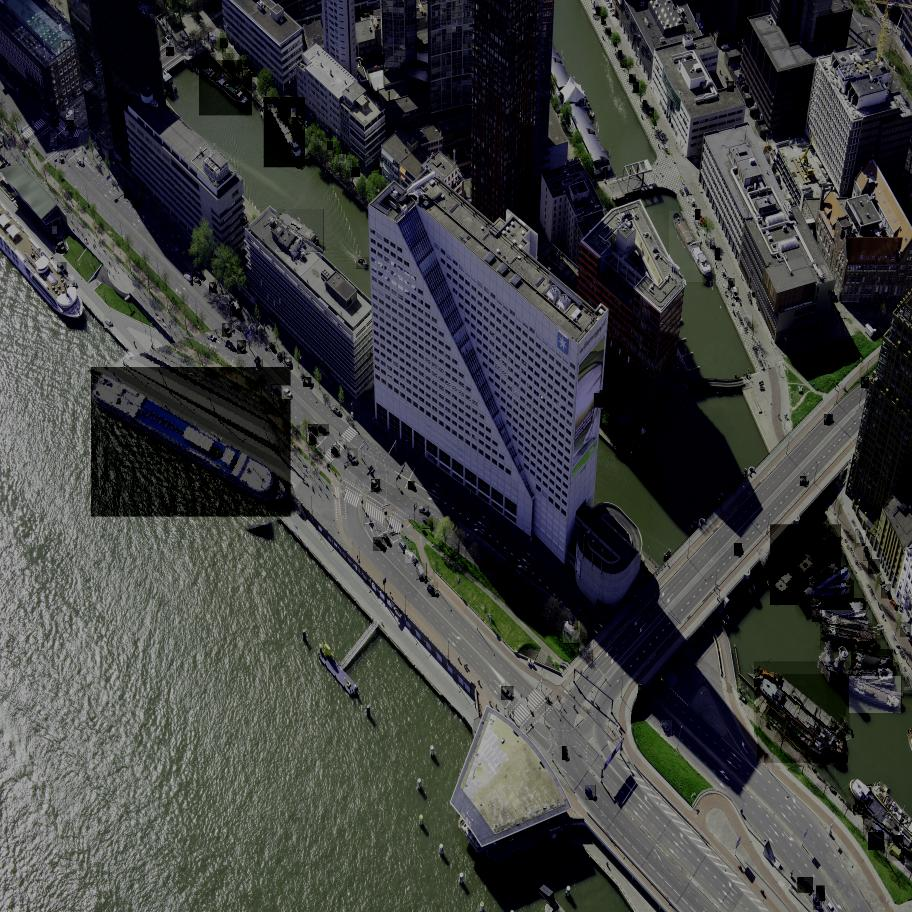large-vehicle: (560, 621, 583, 644), (229, 298, 243, 317), (57, 262, 69, 275)
ship: (82, 368, 304, 519), (752, 674, 853, 763), (746, 662, 857, 739), (765, 524, 847, 606), (667, 211, 716, 283), (200, 58, 256, 116), (262, 98, 307, 168), (846, 676, 905, 714), (275, 209, 327, 252), (777, 721, 831, 758), (794, 563, 839, 599), (794, 580, 855, 606), (821, 624, 879, 650), (822, 610, 874, 638), (812, 598, 868, 623), (851, 650, 894, 676), (846, 667, 895, 686), (862, 815, 895, 842), (217, 69, 246, 95), (887, 836, 905, 858), (857, 641, 878, 654), (854, 800, 868, 813), (355, 258, 370, 269), (852, 805, 866, 815), (755, 680, 765, 689), (754, 677, 762, 680)
small-vehicle: (886, 842, 907, 861), (866, 833, 887, 851), (797, 878, 815, 894), (345, 448, 360, 466), (592, 394, 609, 408), (660, 720, 674, 737), (404, 550, 419, 564), (585, 785, 598, 801), (427, 582, 440, 598), (54, 239, 68, 253), (501, 686, 515, 700), (372, 538, 387, 551), (415, 564, 427, 580), (236, 340, 249, 354), (281, 386, 294, 400), (868, 560, 881, 574), (881, 584, 893, 599), (900, 622, 912, 637), (221, 324, 233, 338), (397, 540, 409, 554), (317, 425, 331, 437), (813, 894, 822, 912), (480, 560, 492, 573), (331, 405, 344, 417), (421, 518, 434, 530), (370, 480, 382, 493), (531, 598, 543, 611), (567, 619, 580, 631), (66, 108, 78, 121), (272, 385, 283, 399), (183, 272, 195, 284), (506, 567, 517, 580), (307, 425, 320, 436), (309, 433, 320, 446), (330, 445, 341, 458), (816, 886, 825, 901), (194, 269, 206, 280), (382, 534, 393, 546), (526, 585, 538, 596), (68, 274, 78, 287), (637, 686, 647, 699), (856, 531, 865, 545), (863, 546, 872, 560), (877, 572, 886, 586), (65, 121, 76, 132), (283, 358, 294, 369), (799, 476, 810, 487), (104, 316, 114, 328), (302, 377, 314, 387), (823, 414, 835, 424), (889, 598, 899, 610), (50, 133, 59, 146), (734, 543, 743, 556), (554, 253, 564, 264), (645, 108, 655, 119), (861, 378, 871, 389), (418, 507, 430, 516), (268, 343, 278, 353), (550, 250, 560, 260), (729, 61, 739, 71), (165, 48, 176, 57), (220, 296, 231, 305), (351, 168, 362, 177), (123, 188, 132, 199), (256, 359, 265, 370), (744, 316, 753, 327), (726, 81, 735, 92), (728, 278, 736, 290), (733, 288, 740, 301), (219, 39, 229, 48), (247, 67, 257, 76), (209, 283, 218, 293), (375, 54, 385, 63), (298, 114, 307, 124), (338, 154, 348, 163), (736, 73, 746, 82), (346, 160, 354, 171), (277, 352, 285, 363), (193, 275, 202, 284), (52, 119, 61, 128), (371, 165, 380, 174), (315, 131, 324, 140), (321, 137, 330, 146), (77, 157, 85, 167), (250, 324, 258, 334), (356, 10, 366, 18), (377, 159, 385, 169), (700, 218, 708, 228), (684, 185, 691, 196), (689, 195, 696, 206), (226, 45, 235, 53), (241, 61, 250, 69), (242, 220, 250, 229), (367, 6, 375, 15), (327, 141, 335, 150), (333, 147, 342, 155), (310, 124, 318, 133), (291, 108, 299, 117), (699, 21, 707, 30), (209, 33, 216, 43), (134, 199, 141, 209), (621, 58, 628, 68), (829, 295, 839, 302), (240, 217, 248, 225), (629, 75, 637, 83), (52, 226, 59, 235), (659, 134, 666, 143), (605, 27, 612, 36), (704, 15, 711, 24), (711, 21, 716, 33), (408, 482, 415, 490), (367, 58, 375, 65), (738, 40, 746, 47), (634, 83, 640, 92), (643, 100, 649, 109), (562, 747, 566, 759), (721, 44, 729, 50), (59, 153, 64, 162), (725, 75, 730, 84), (664, 144, 669, 153), (696, 209, 700, 220), (696, 13, 700, 23), (704, 29, 709, 36), (738, 78, 745, 83), (716, 249, 719, 260), (613, 40, 617, 48), (699, 2, 703, 10), (359, 61, 366, 65), (602, 16, 605, 25), (711, 240, 714, 249), (619, 50, 622, 58), (597, 8, 600, 15), (829, 291, 833, 296), (743, 86, 748, 90)
